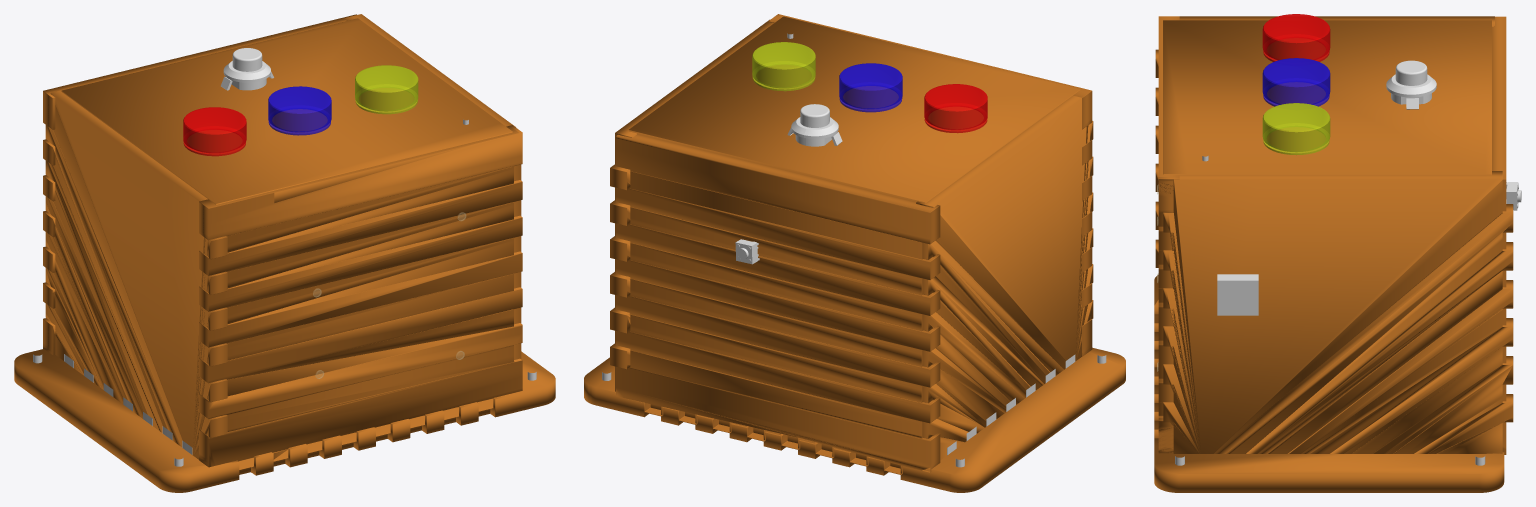
File: CON TAPA.glb
3 views of the same model, side by side, from view 1: azimuth 30°, elevation 25°; view 2: azimuth 150°, elevation 25°; view 3: azimuth 270°, elevation 25° (orthographic). The views are drawn at different scales.
Parts seen in each view (by area): view 1: Atras pared, tapa lateral derecha, Tapa, Base, Curve.053, Cylinder.001, Cylinder.002, Cylinder, Curve.047, empty_2.001, Para la base; view 2: Curve.053, tapa lateral derecha, Tapa, Base, Curve.047, Cylinder.001, Cylinder.002, Cylinder, Atras pared, empty_2.001, Para la base; view 3: Curve.047, Tapa, Base, Atras pared, Cylinder.002, Curve.053, Cylinder.001, Cylinder, tapa lateral derecha, empty_2.001, cubito fantasma.
Part boxes in pixels (left/top/right/bottom): Atras pared: left=199, top=125, right=522, bottom=469; tapa lateral derecha: left=45, top=88, right=227, bottom=459; Tapa: left=61, top=18, right=512, bottom=204; Base: left=14, top=349, right=555, bottom=492; Curve.053: left=43, top=14, right=356, bottom=354; Cylinder.001: left=268, top=86, right=331, bottom=135; Cylinder.002: left=355, top=65, right=418, bottom=114; Cylinder: left=183, top=107, right=246, bottom=156; Curve.047: left=344, top=14, right=521, bottom=359; empty_2.001: left=221, top=48, right=273, bottom=90; Para la base: left=33, top=354, right=536, bottom=466; Curve.053: left=616, top=134, right=940, bottom=474; tapa lateral derecha: left=916, top=95, right=1093, bottom=459; Tapa: left=628, top=16, right=1080, bottom=203; Base: left=584, top=347, right=1125, bottom=492; Curve.047: left=610, top=19, right=773, bottom=391; Cylinder.001: left=839, top=63, right=902, bottom=112; Cylinder.002: left=752, top=42, right=815, bottom=91; Cylinder: left=924, top=84, right=987, bottom=133; Atras pared: left=768, top=14, right=1092, bottom=356; empty_2.001: left=787, top=104, right=842, bottom=146; Para la base: left=602, top=354, right=1106, bottom=467; Curve.047: left=1163, top=171, right=1513, bottom=453; Tapa: left=1163, top=20, right=1491, bottom=175; Base: left=1154, top=275, right=1504, bottom=492; Atras pared: left=1158, top=16, right=1179, bottom=453; Cylinder.002: left=1262, top=103, right=1330, bottom=155; Curve.053: left=1492, top=16, right=1506, bottom=454; Cylinder.001: left=1262, top=58, right=1330, bottom=106; Cylinder: left=1262, top=14, right=1330, bottom=61; tapa lateral derecha: left=1155, top=16, right=1494, bottom=267; empty_2.001: left=1386, top=60, right=1436, bottom=109; cubito fantasma: left=1217, top=274, right=1258, bottom=315.
Bounding box in the file's own units: 0.1382 × 0.1036 × 0.1052.
